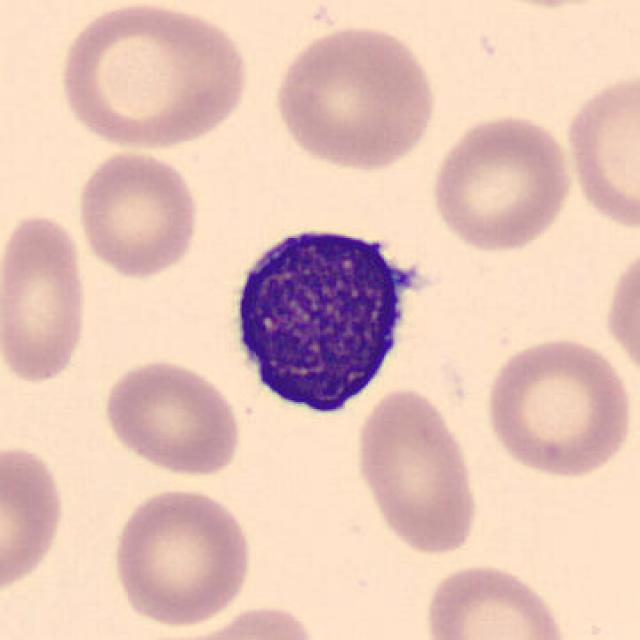Lymphocyte: (218, 208, 426, 425)
RBC: (51, 0, 252, 152), (268, 21, 441, 175), (350, 383, 484, 557), (480, 332, 635, 482), (427, 109, 576, 256), (107, 483, 256, 630), (98, 356, 245, 480), (71, 147, 205, 280), (0, 206, 92, 387), (560, 67, 638, 234), (420, 559, 574, 640), (0, 438, 69, 599), (142, 603, 326, 640), (602, 238, 640, 388), (471, 0, 627, 12)
